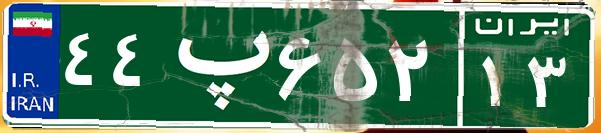1: (475, 38, 525, 113)
2: (385, 28, 445, 110)
3: (525, 38, 570, 115)
4: (57, 26, 110, 107), (110, 28, 158, 105)
5: (330, 28, 385, 110)
6: (273, 28, 330, 110)
پ: (158, 15, 273, 115)
